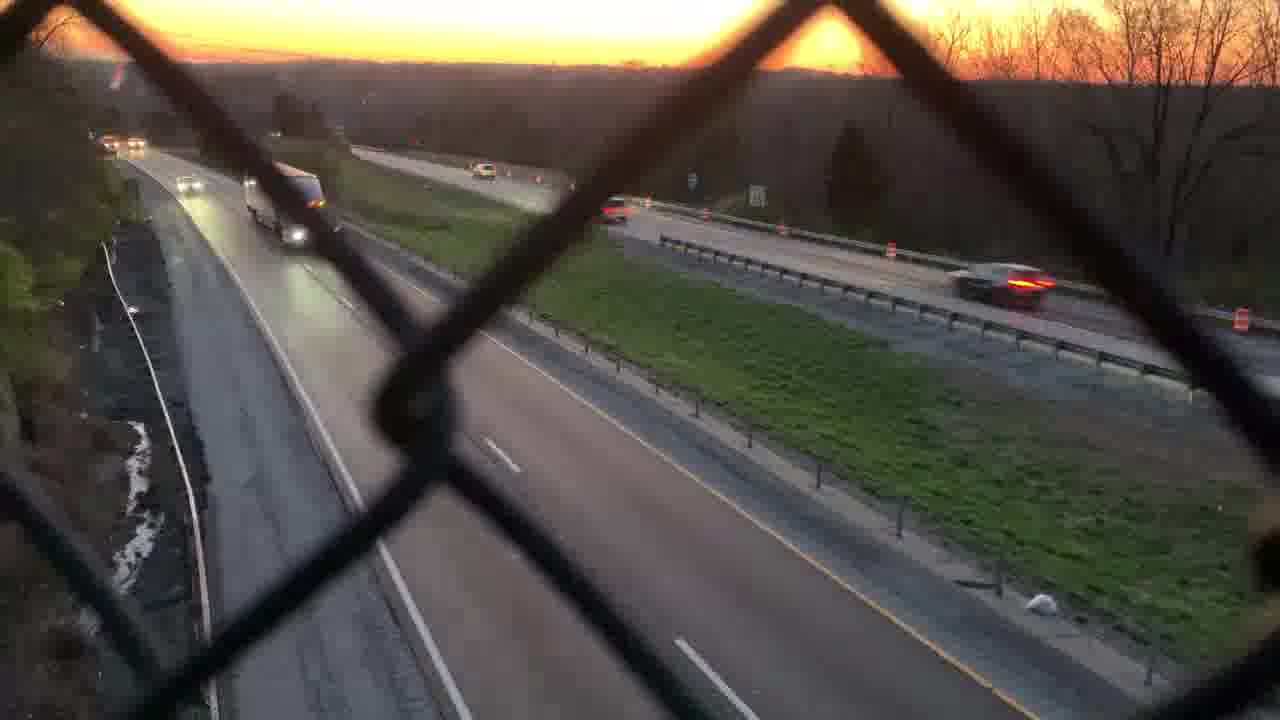heavyTruck: (239, 162, 336, 252)
largeCar: (946, 255, 1056, 308)
